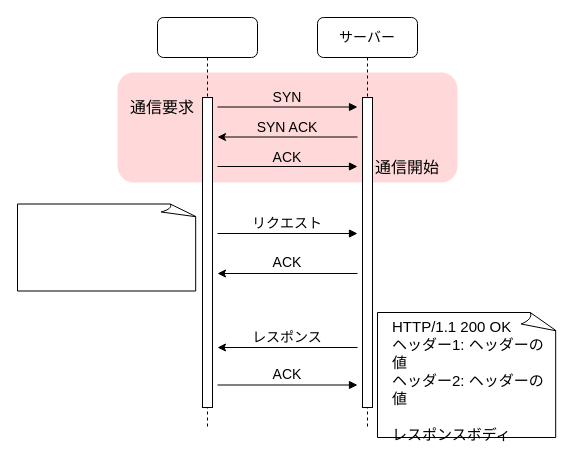
Image size: 575x460. Some labels were removed from this diagram. The box of each missing label's shape, as (x1, y1, x2, y2) in pixels:
GET パス HTTP/1.1 ヘッダー1: ヘッダーの値 ヘッダー2: ヘッダーの値: (16, 203, 198, 291)
クライアント: (156, 16, 258, 428)
